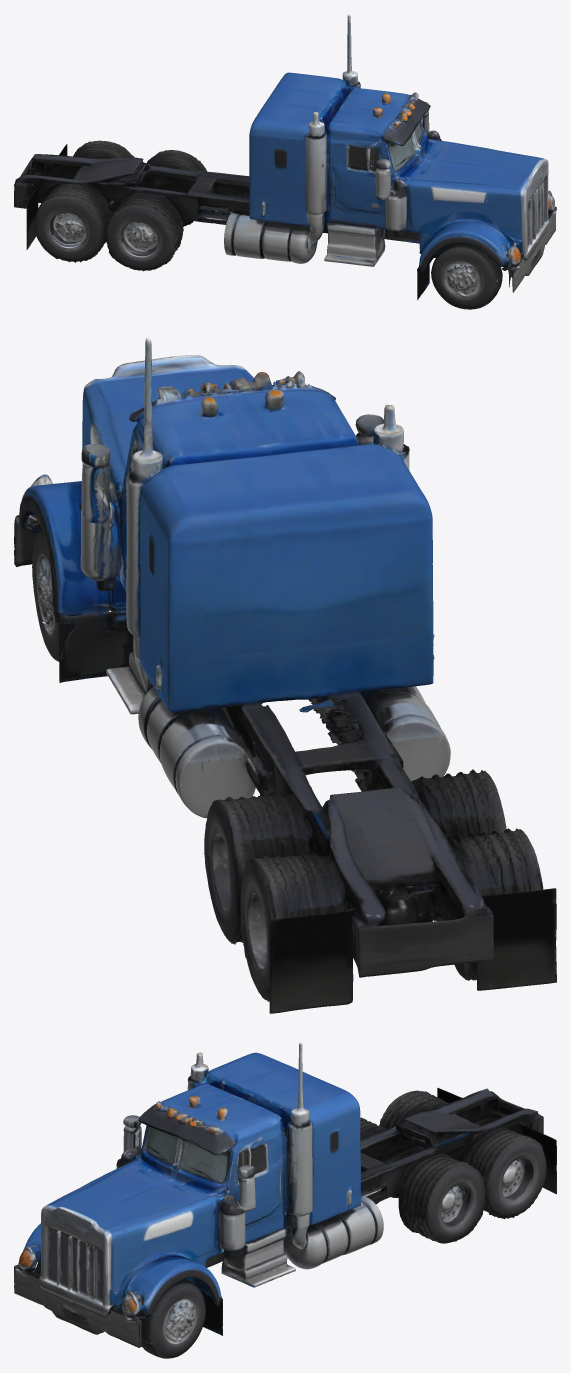
The model's file is truck-no-trailer.glb.
The picture shows the model from 3 angles, top to bottom: view 1: azimuth 30°, elevation 25°; view 2: azimuth 150°, elevation 25°; view 3: azimuth 270°, elevation 25°; orthographic projection. The views are drawn at different scales.
Visible parts, largest first — view 1: Object_4, Object_5; view 2: Object_4, Object_5; view 3: Object_4, Object_5.
Boxes of the visible parts, x1,y1,x2,y2 form: Object_4: (14, 15, 556, 309); Object_5: (14, 14, 556, 309); Object_4: (14, 339, 556, 1013); Object_5: (14, 338, 556, 1001); Object_4: (14, 1043, 556, 1358); Object_5: (14, 1042, 556, 1357).
Bounding box in the file's own units: 1.73 × 0.9228 × 1.75.
1 material, 1 textured.
